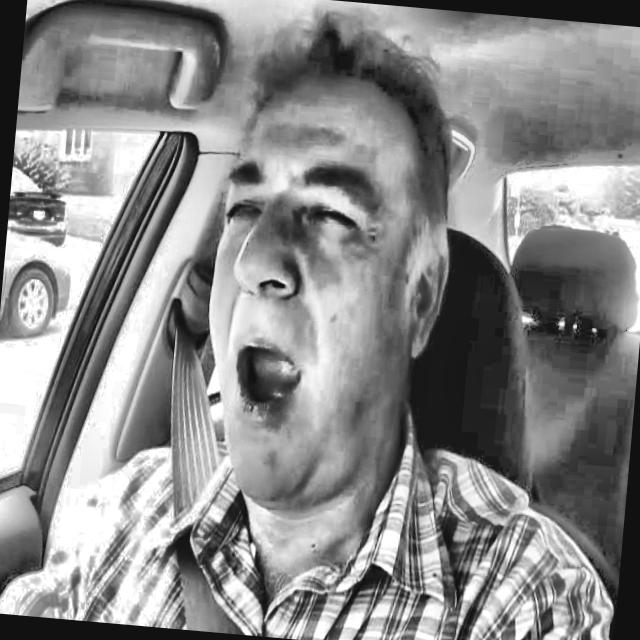closed_eyes: (293, 196, 372, 249), (210, 188, 279, 241)
open_mouth: (213, 331, 316, 435)
